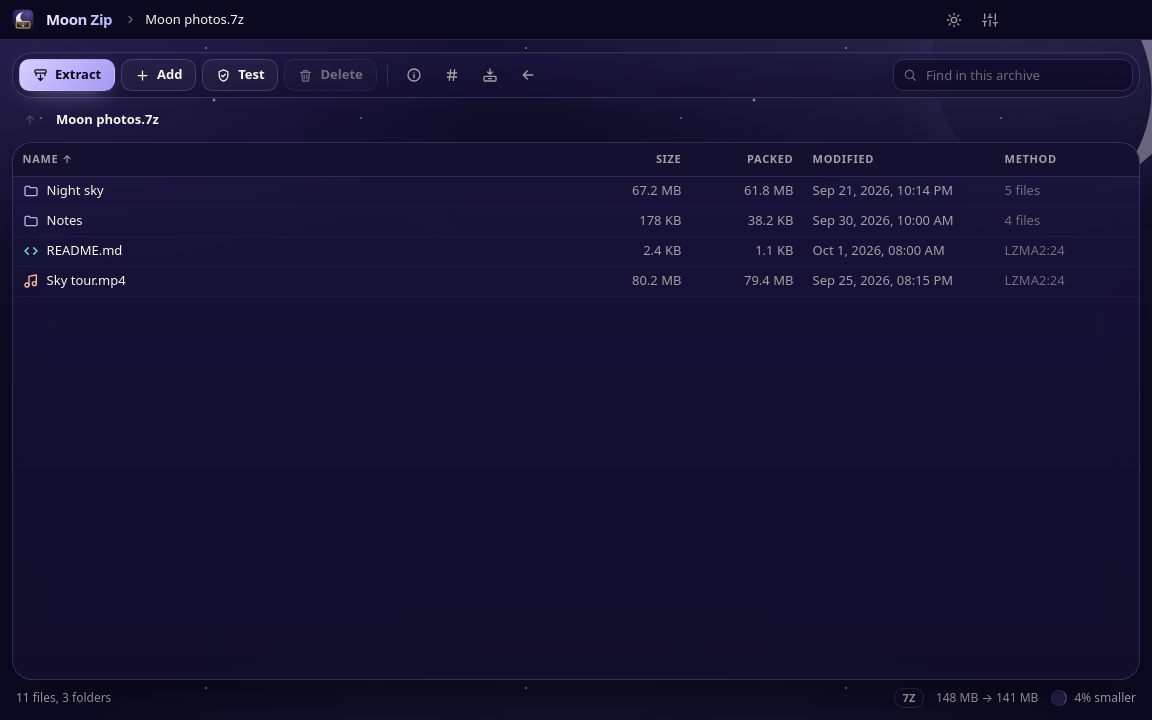
it: archive window › extracts the selection into a new folder and says where
The width and height of the screenshot is (1152, 720).
Click the text "README.md": (84, 251) [47,241,122,261]
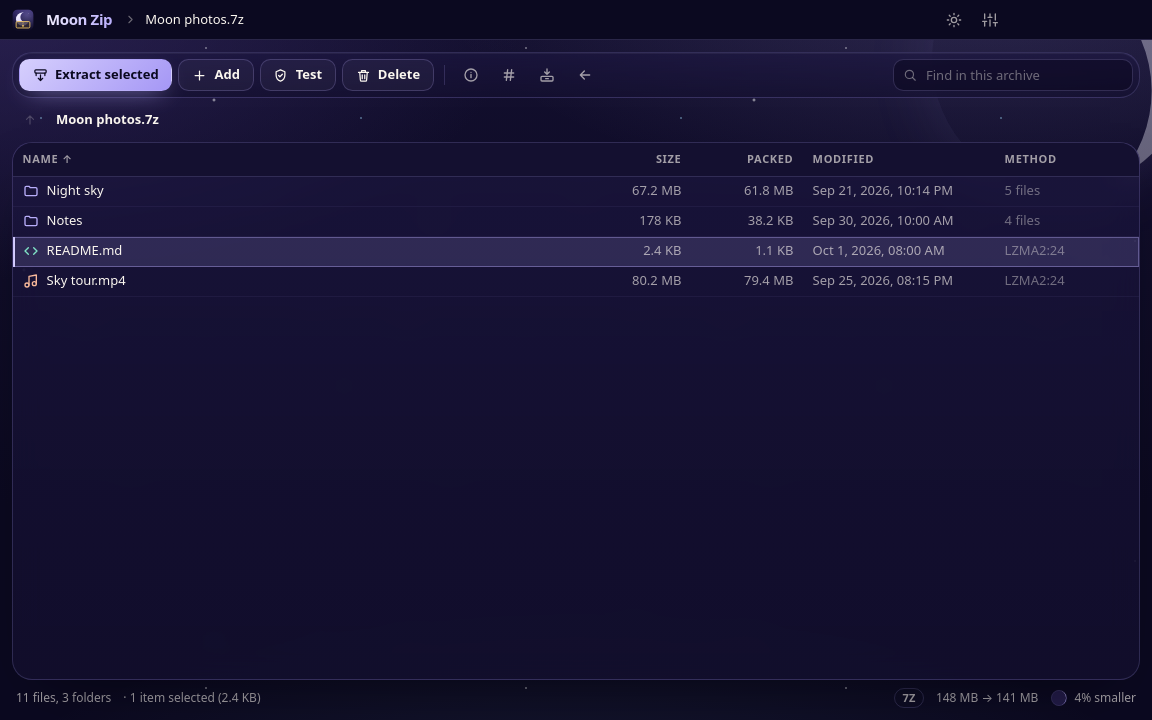
Click the button "Extract selected": (96, 75) [19,59,172,91]
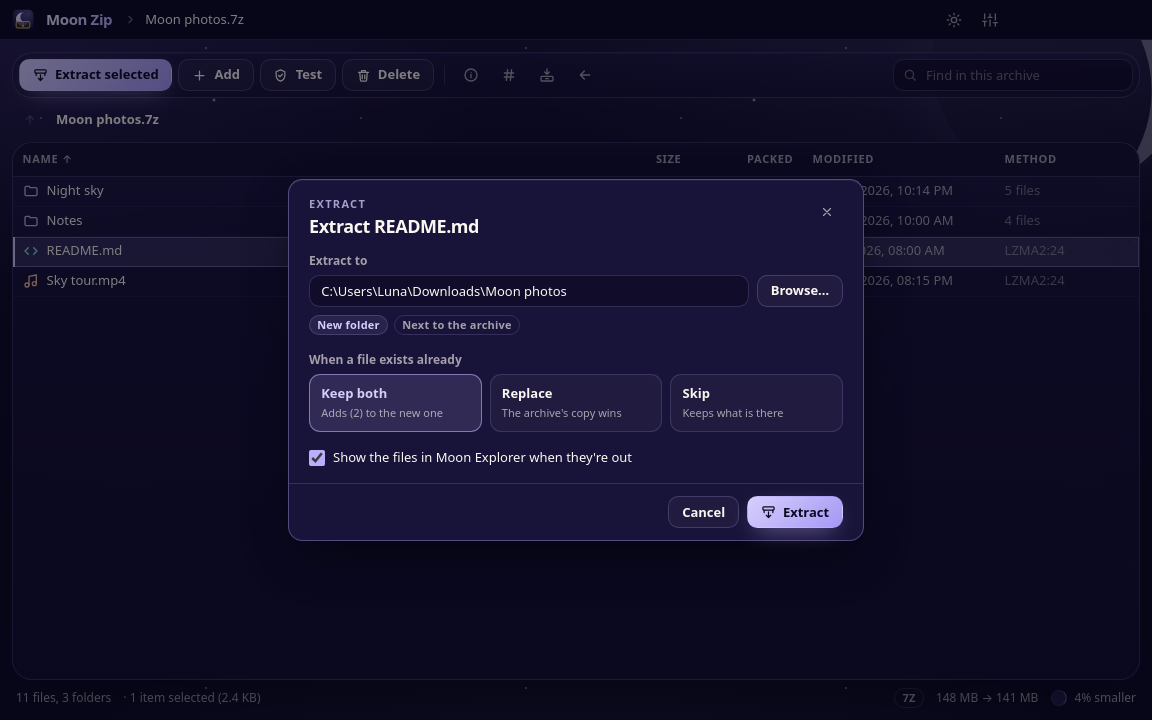
Result: the field labelled "Extract to" holds "C:\\Users\\Luna\\Downloads\\Moon photos" at [309,275,749,307]
Click the checkbox: (317, 458) [309,450,325,466]
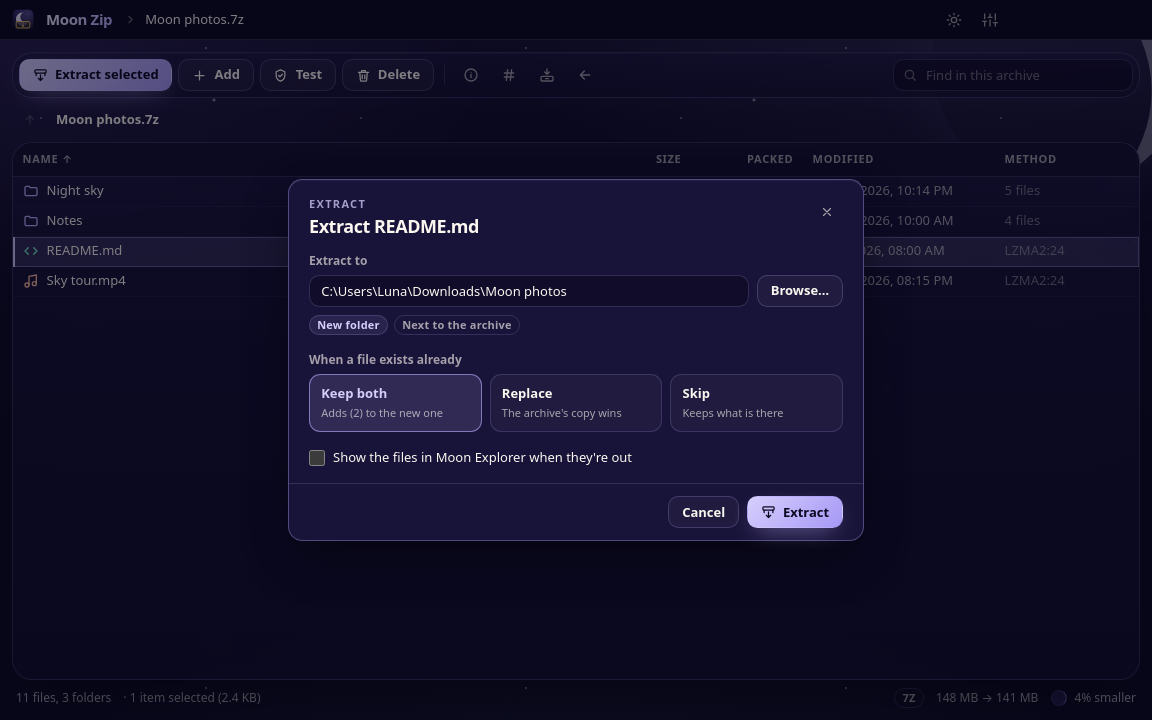
Click the button "Extract": (795, 512) [747,496,843,528]
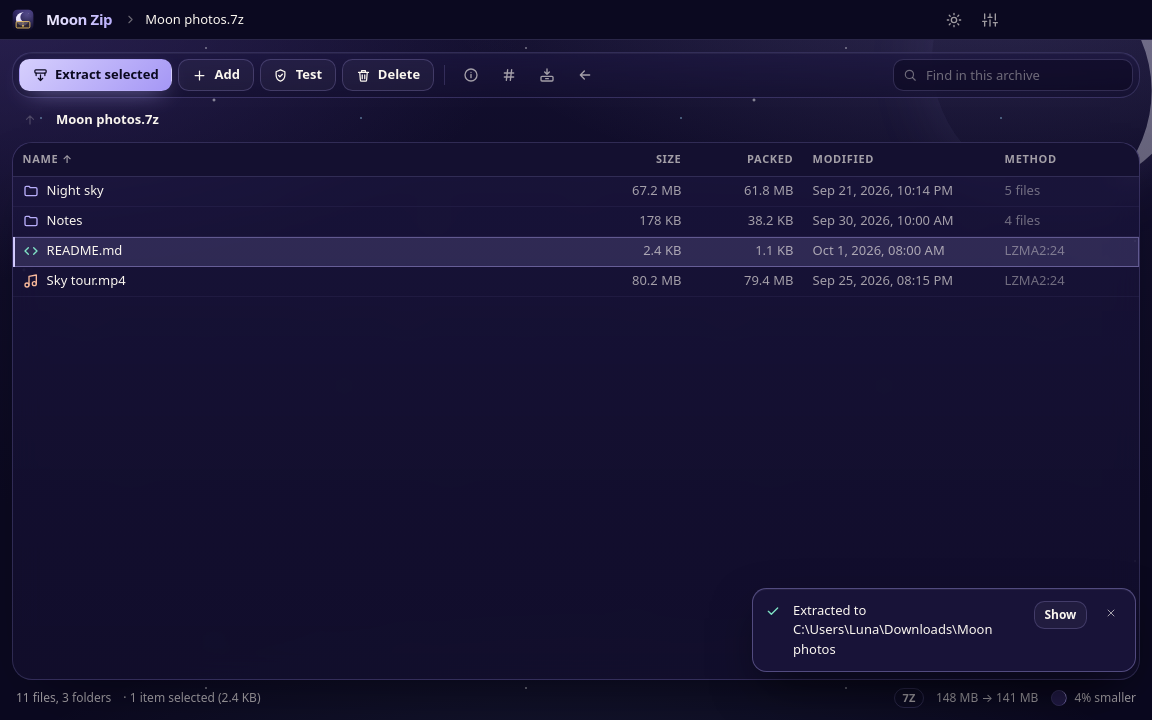
Result: the text "Extracted to C:\\Users\\Luna\\Downloads\\Moon photos" is shown at [793,600,1022,659]
